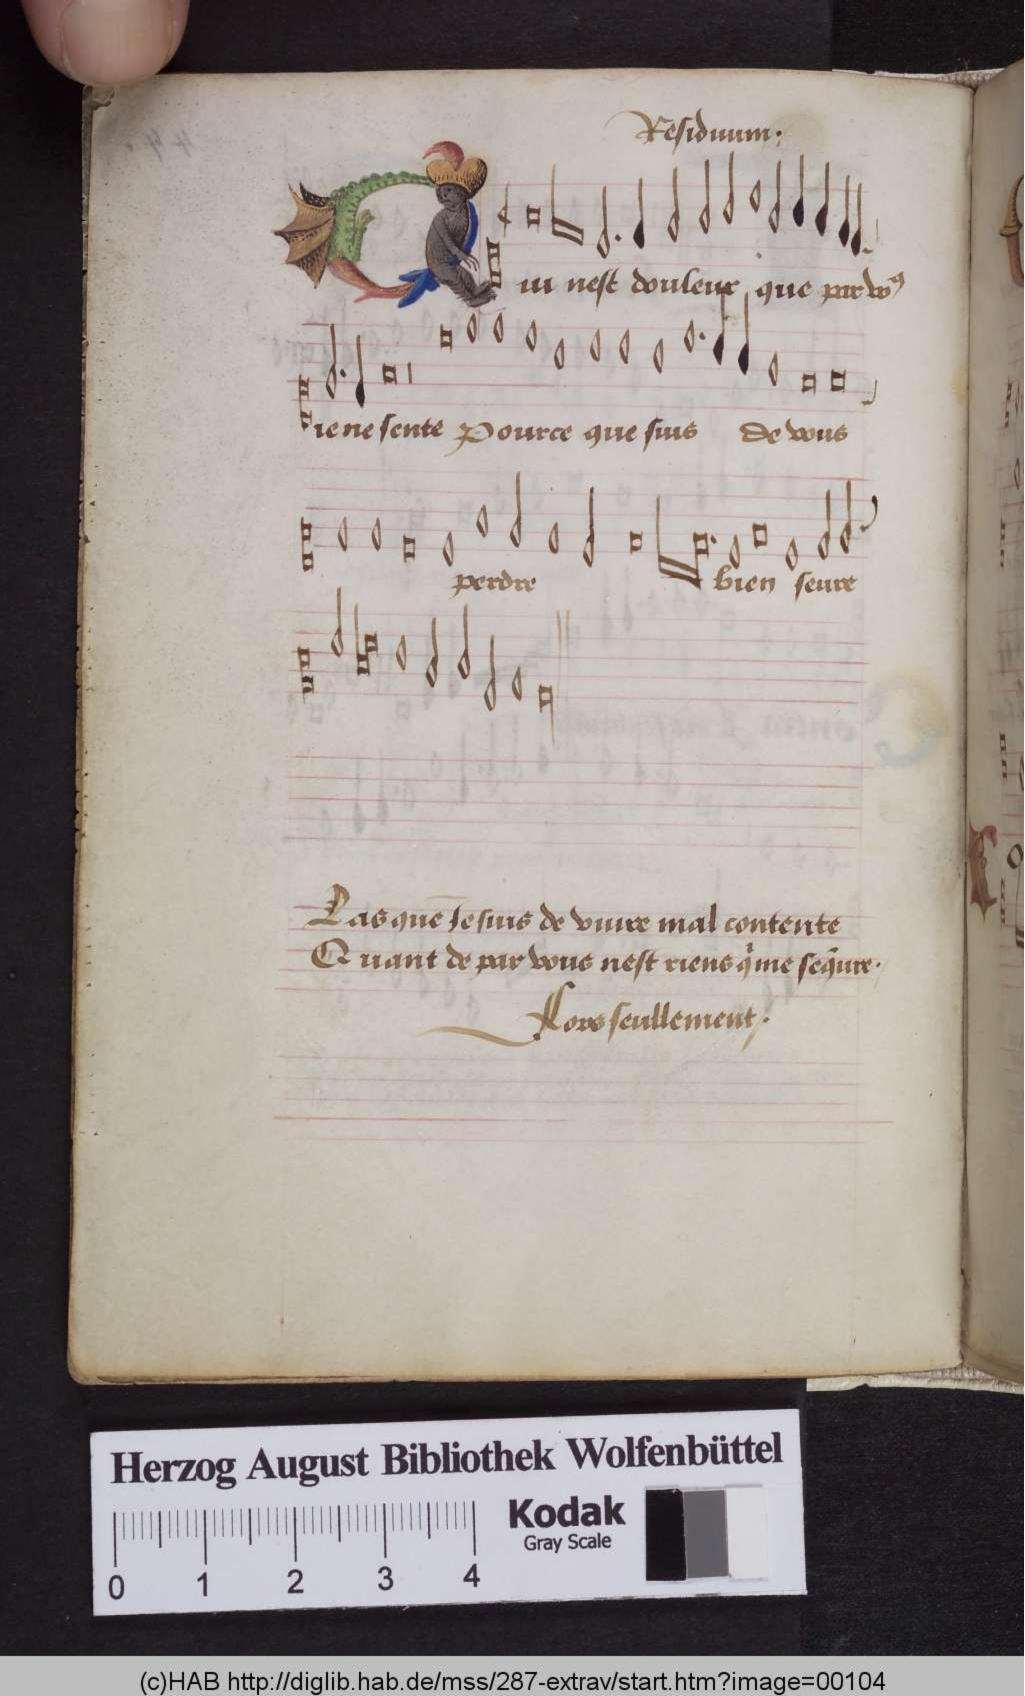barline: (549, 601, 578, 726)
c clef_9: (292, 634, 320, 711)
l1semibreve_8: (347, 598, 371, 684)
l2semibreve_6: (362, 625, 384, 674)
longa_11: (529, 674, 555, 745)
minim_11: (479, 628, 502, 720)
minim_6: (327, 583, 348, 661)
minim_8: (454, 597, 477, 688)
minim_9: (419, 611, 442, 694)
semibreve_10: (512, 657, 531, 711)
semibreve_7: (390, 625, 416, 681)
